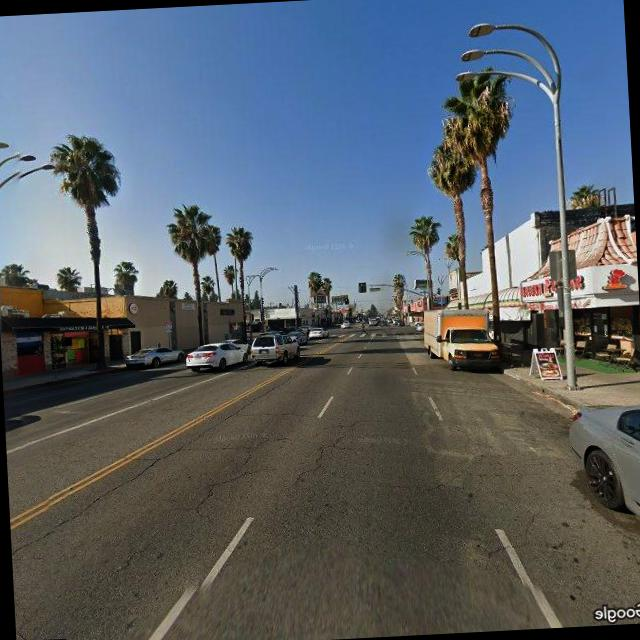crack: (184, 413, 368, 510)
pothole: (10, 375, 297, 548), (191, 447, 268, 517), (288, 416, 364, 486), (116, 542, 154, 572)
